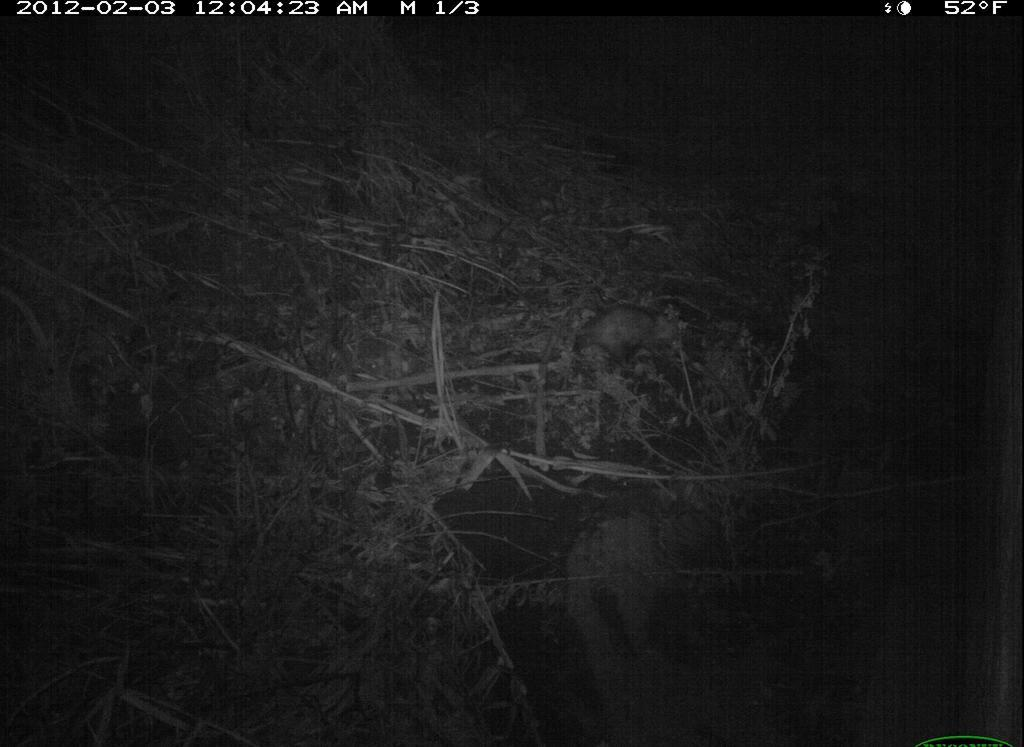opossum: (553, 292, 696, 386)
